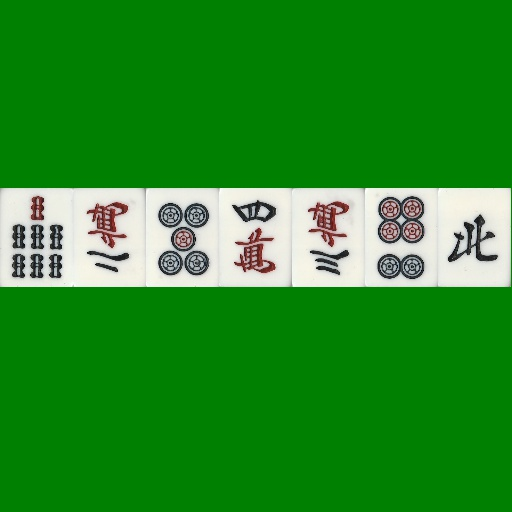2m: (73, 188, 146, 287)
3m: (292, 188, 365, 287)
4m: (219, 188, 292, 287)
5p: (146, 188, 219, 287)
6p: (365, 188, 438, 287)
7s: (0, 188, 73, 287)
north: (438, 188, 511, 287)
